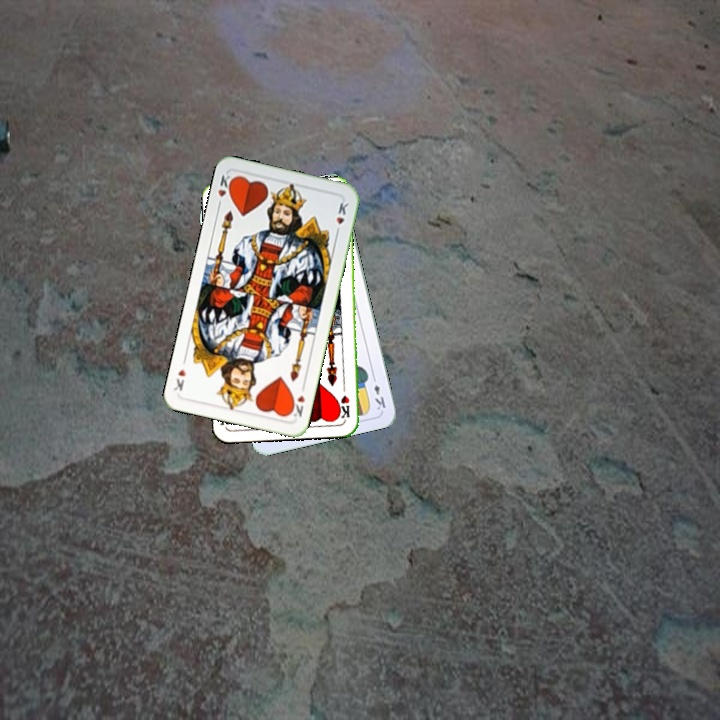EK: (368, 372, 388, 413)
HK: (214, 171, 237, 210), (336, 380, 352, 421), (286, 391, 308, 420)
